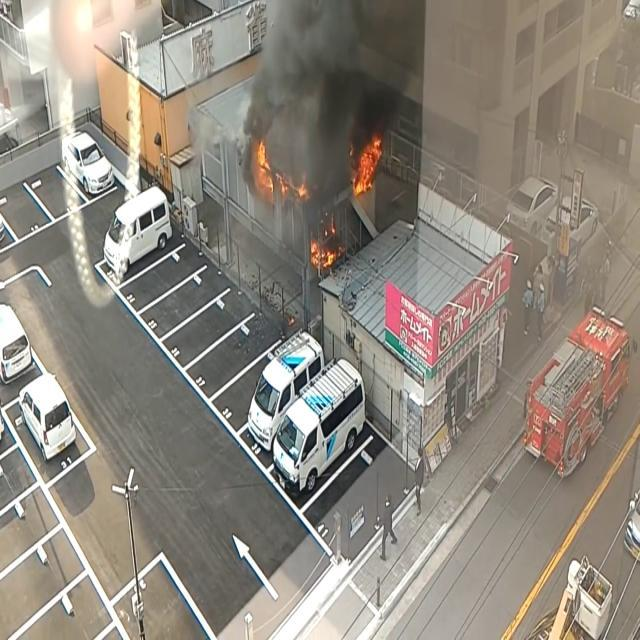Fire: (351, 126, 386, 200), (308, 222, 340, 276), (253, 134, 275, 197)
Smoke: (237, 0, 422, 215)
